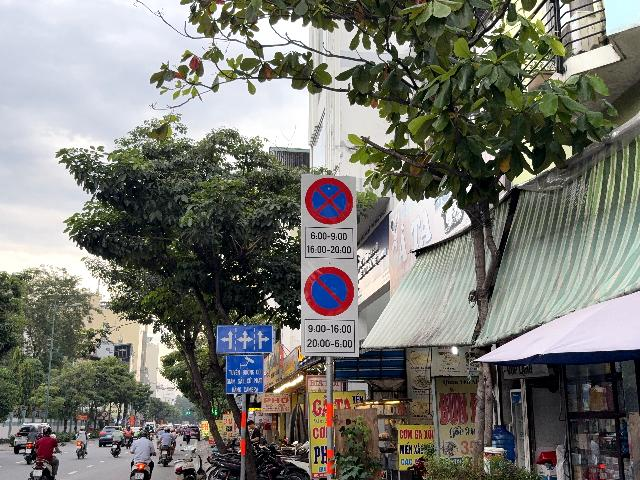cam-do-xe: (304, 266, 353, 316)
cam-dung-va-do-xe: (305, 177, 354, 225)
